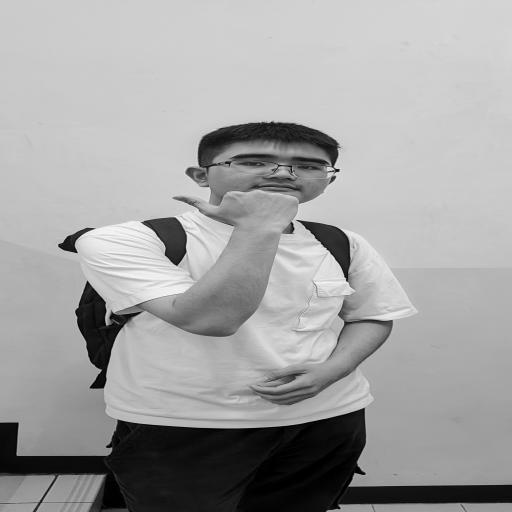back: (165, 182, 330, 241)
